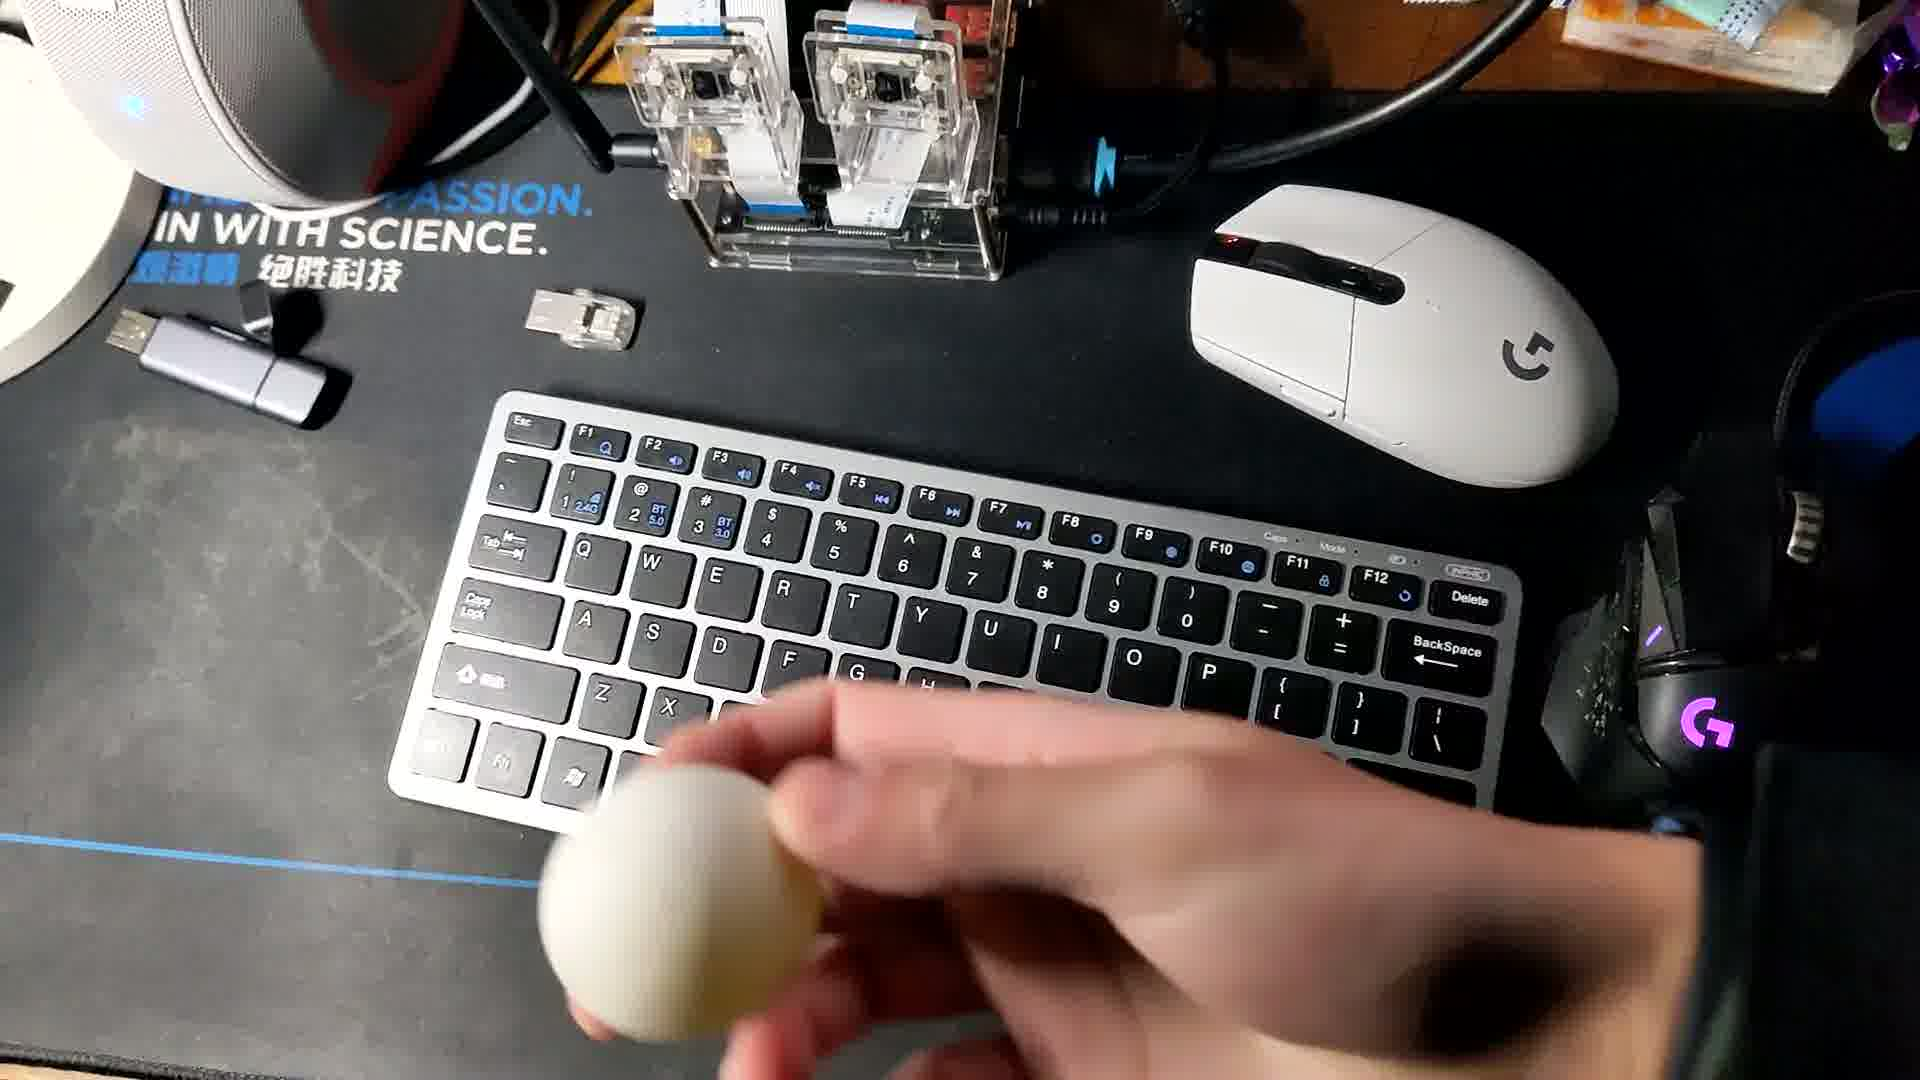Ball: (546, 767, 824, 1050)
